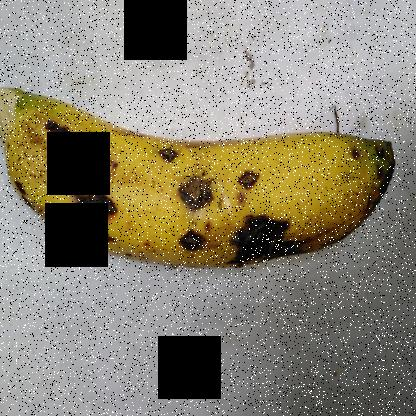rotten: (230, 202, 317, 288), (60, 175, 123, 253), (234, 145, 284, 204), (174, 151, 223, 209), (36, 95, 81, 152), (169, 216, 219, 256), (149, 128, 191, 173)
